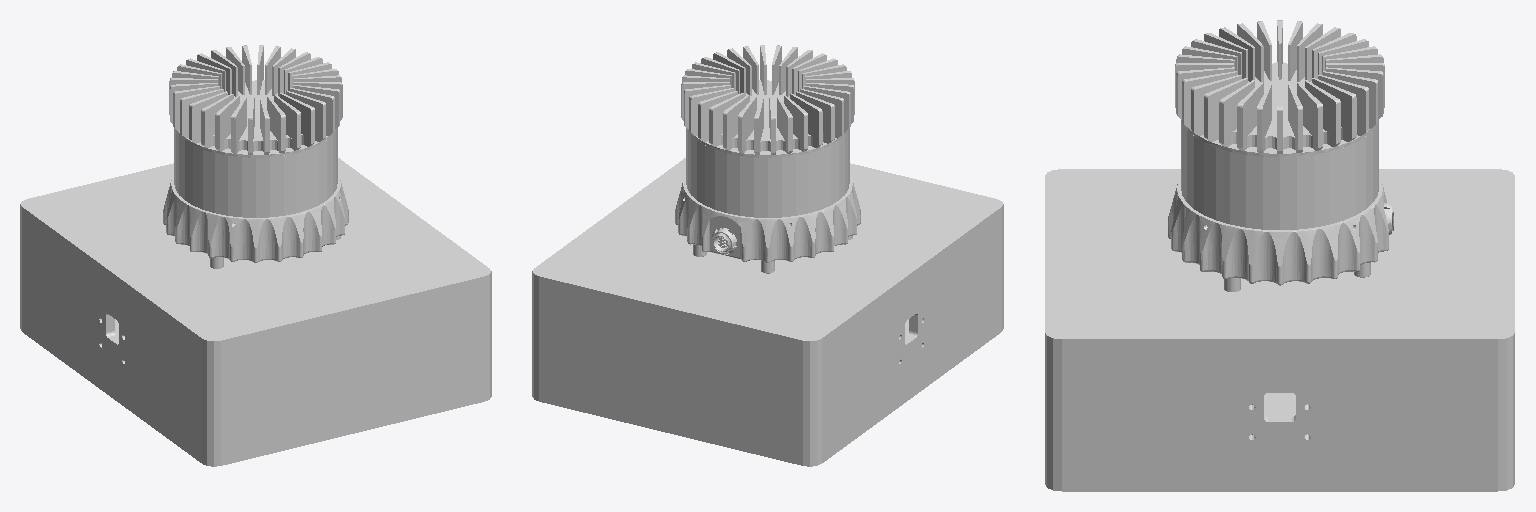
The robot description file, URDF, robot "sensor_pkg":
<?xml version="1.0" encoding="utf-8"?>
<robot name="sensor_pkg">

  <!--
    Cleaned URDF:
    base_link is now the actual center of the LiDAR/camera package.
    The old SolidWorks origin has been removed.
  -->

  <link name="base_link">
    <visual>
      <origin xyz="-0.61975 1.2619 -0.82464" rpy="0 0 0"/>
      <geometry>
        <mesh filename="package://sensor_pkg/meshes/base_link.STL"/>
      </geometry>
      <material name="light_gray">
        <color rgba="0.894117647058823 0.894117647058823 0.894117647058823 1"/>
      </material>
    </visual>

    <collision>
      <origin xyz="-0.61975 1.2619 -0.82464" rpy="0 0 0"/>
      <geometry>
        <mesh filename="package://sensor_pkg/meshes/base_link.STL"/>
      </geometry>
    </collision>
  </link>

  <link name="cam1_link">
    <visual>
      <origin xyz="0 0 0" rpy="0 0 0"/>
      <geometry>
        <mesh filename="package://sensor_pkg/meshes/cam1_link.STL"/>
      </geometry>
      <material name="light_gray">
        <color rgba="0.894117647058823 0.894117647058823 0.894117647058823 1"/>
      </material>
    </visual>

    <collision>
      <origin xyz="0 0 0" rpy="0 0 0"/>
      <geometry>
        <mesh filename="package://sensor_pkg/meshes/cam1_link.STL"/>
      </geometry>
    </collision>
  </link>

  <joint name="cam1_joint" type="fixed">
    <origin xyz="-0.07669 0.00 0.015" rpy="0 -1.5708 0"/>
    <parent link="base_link"/>
    <child link="cam1_link"/>
  </joint>

  <link name="cam2_link">
    <visual>
      <origin xyz="0 0 0" rpy="0 0 0"/>
      <geometry>
        <mesh filename="package://sensor_pkg/meshes/cam2_link.STL"/>
      </geometry>
      <material name="light_gray">
        <color rgba="0.894117647058823 0.894117647058823 0.894117647058823 1"/>
      </material>
    </visual>

    <collision>
      <origin xyz="0 0 0" rpy="0 0 0"/>
      <geometry>
        <mesh filename="package://sensor_pkg/meshes/cam2_link.STL"/>
      </geometry>
    </collision>
  </link>

  <joint name="cam2_joint" type="fixed">
    <origin xyz="0.07669 0.0 0.015" rpy="3.1416 -1.5708 0"/>
    <parent link="base_link"/>
    <child link="cam2_link"/>
  </joint>

  <link name="lidar_Link">
    <visual>
      <origin xyz="0 0 0" rpy="0 0 0"/>
      <geometry>
        <mesh filename="package://sensor_pkg/meshes/lidar_Link.STL"/>
      </geometry>
      <material name="light_gray">
        <color rgba="0.894117647058823 0.894117647058823 0.894117647058823 1"/>
      </material>
    </visual>

    <collision>
      <origin xyz="0 0 0" rpy="0 0 0"/>
      <geometry>
        <mesh filename="package://sensor_pkg/meshes/lidar_Link.STL"/>
      </geometry>
    </collision>
  </link>

  <joint name="lidar_joint" type="fixed">
    <origin xyz="0 0 0.04926" rpy="1.5708 0 0"/>
    <parent link="base_link"/>
    <child link="lidar_Link"/>
  </joint>

</robot>

--- What the picture shows (computed from the rendered views, not written in the file) ---
The picture shows the robot from 3 angles, left to right: view 1: azimuth 30°, elevation 25°; view 2: azimuth 150°, elevation 25°; view 3: azimuth 270°, elevation 25°; orthographic projection.
Model sensor_pkg with 4 links and 3 joints (3 fixed), rooted at base_link, posed all joints at 0.
Visible links, largest first — view 1: base_link, lidar_Link; view 2: base_link, lidar_Link; view 3: base_link, lidar_Link.
Boxes of the visible links, bbox=[...] form: base_link: bbox=[20, 158, 491, 466]; lidar_Link: bbox=[163, 45, 348, 262]; base_link: bbox=[532, 158, 1003, 466]; lidar_Link: bbox=[675, 45, 860, 263]; base_link: bbox=[1045, 169, 1514, 491]; lidar_Link: bbox=[1168, 20, 1393, 285].
Bounding box of the posed robot: 0.1524 × 0.1778 × 0.1428 m (x, y, z).
Meshes: 4 distinct files referenced, 2 mesh visuals loaded (2 binary STL); not drawn: 2 (reference not matched to a file when rendering).
